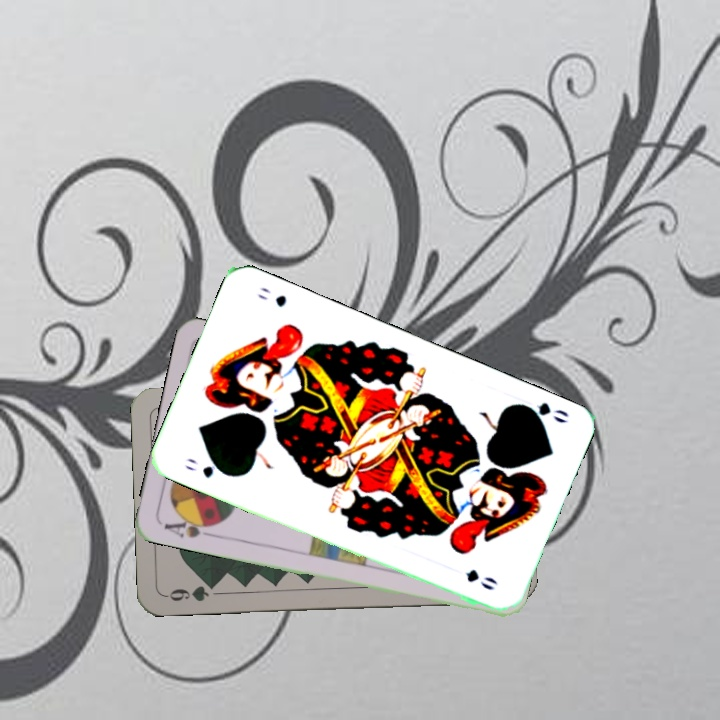G9: (162, 579, 221, 604)
GO: (513, 398, 572, 426), (181, 453, 232, 481)
SA: (159, 511, 220, 541)
